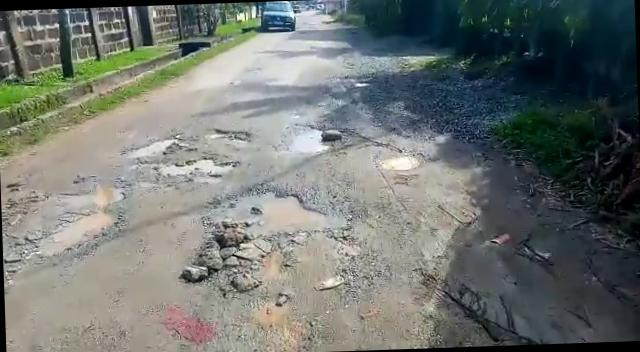pothole: (186, 184, 352, 245), (22, 187, 130, 263), (158, 152, 240, 178), (124, 136, 186, 160), (286, 124, 328, 154), (374, 150, 424, 172), (208, 126, 255, 146)
